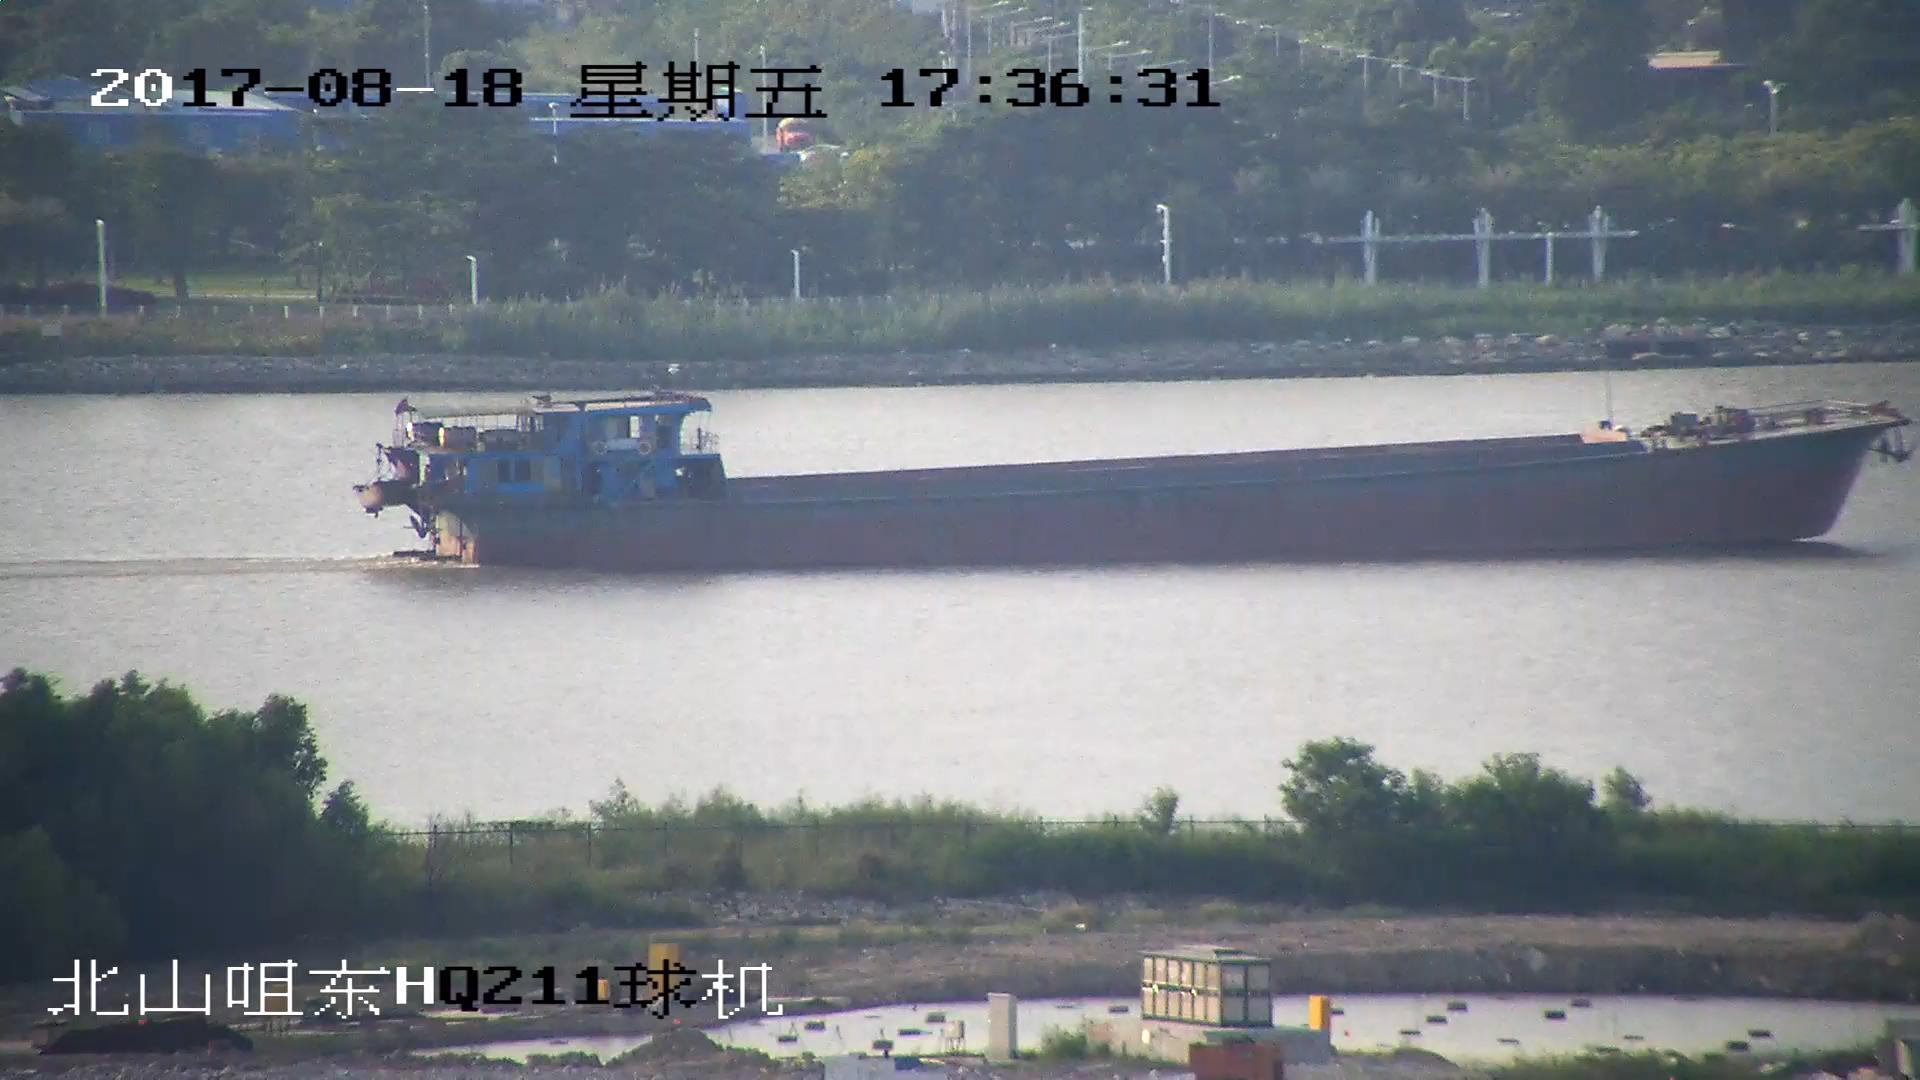Ship: (364, 392, 1907, 578)
